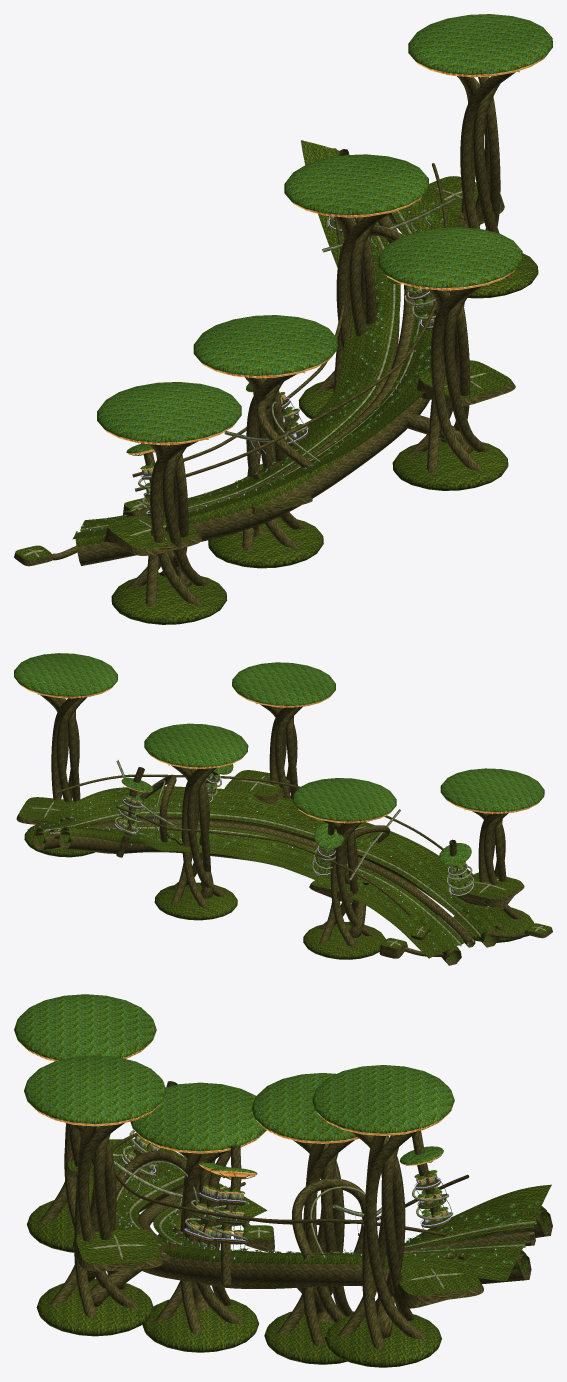
Rendered from canopy.glb.
3 renders of one model, top to bottom at view 1: azimuth 30°, elevation 25°; view 2: azimuth 150°, elevation 25°; view 3: azimuth 270°, elevation 25°, orthographic. The views are drawn at different scales.
Size of the model in its own units: 1023 by 592 by 717.
Materials: 8 (8 with a texture image).
